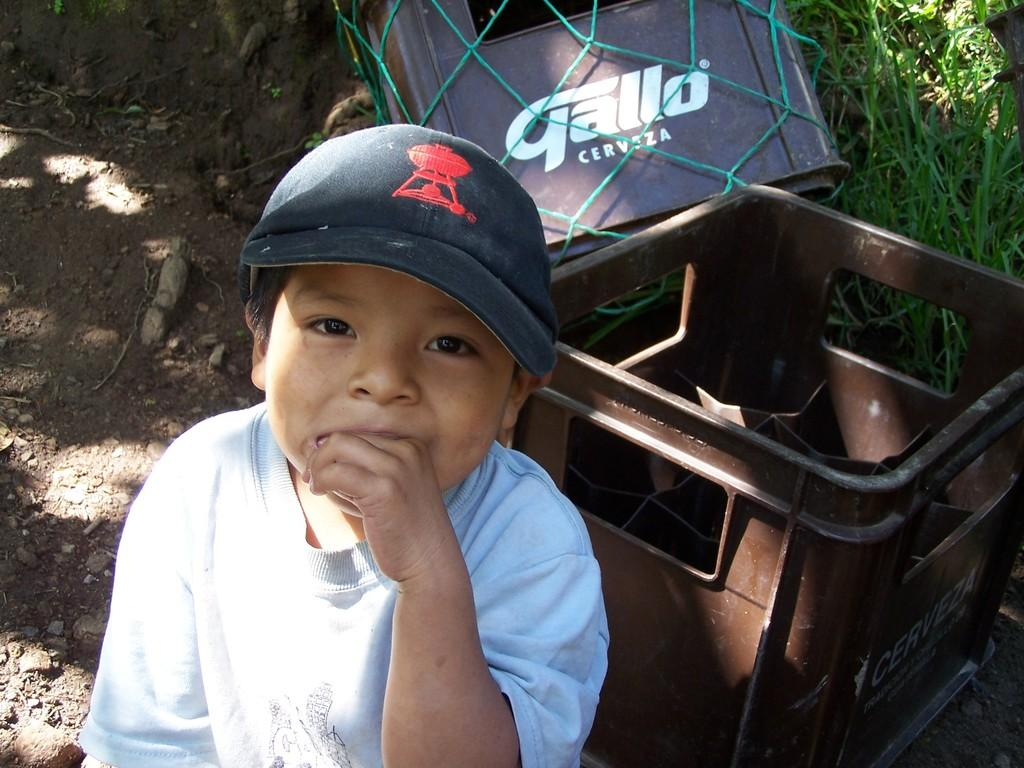Hat: (232, 118, 565, 384)
